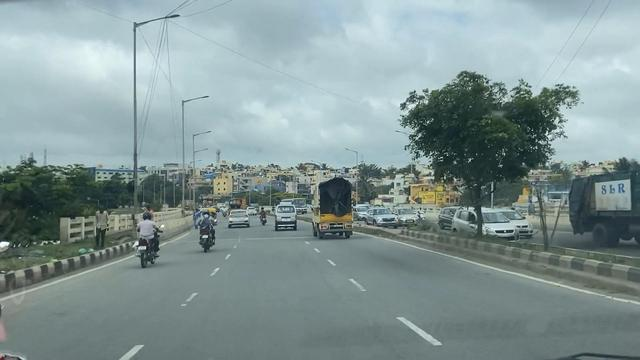HMV: (311, 181, 358, 241)
LMV: (183, 205, 218, 255), (128, 213, 158, 269)
